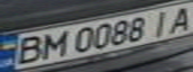0: (69, 25, 97, 53), (90, 20, 115, 50)
8: (127, 14, 154, 43), (109, 17, 133, 46)
A: (163, 3, 193, 35)
B: (6, 34, 48, 65)
I: (145, 8, 178, 37)
M: (36, 29, 69, 60)
